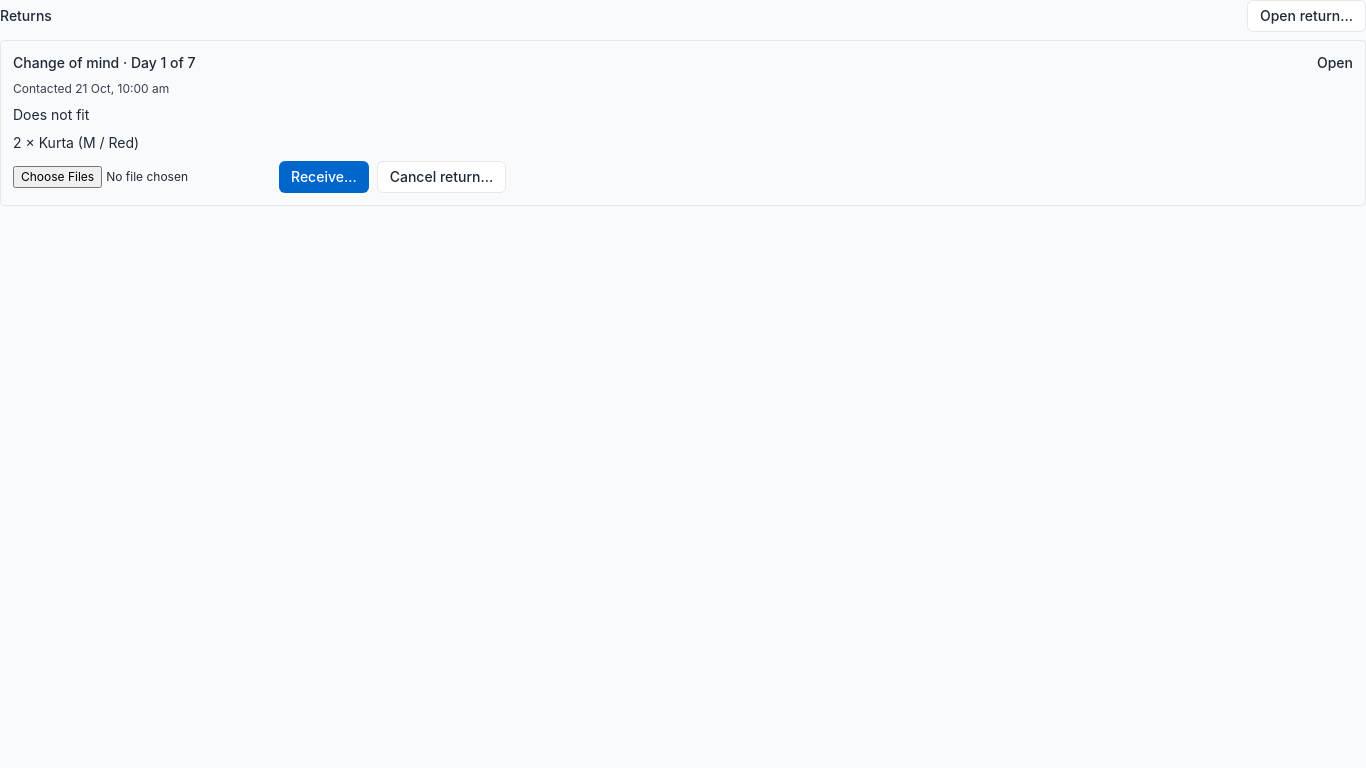
it: a server refusal (bad_state) keeps the dialog open with the message › Receive and Cancel stay open too
Click the button "Receive…": (324, 177) [279, 161, 369, 193]
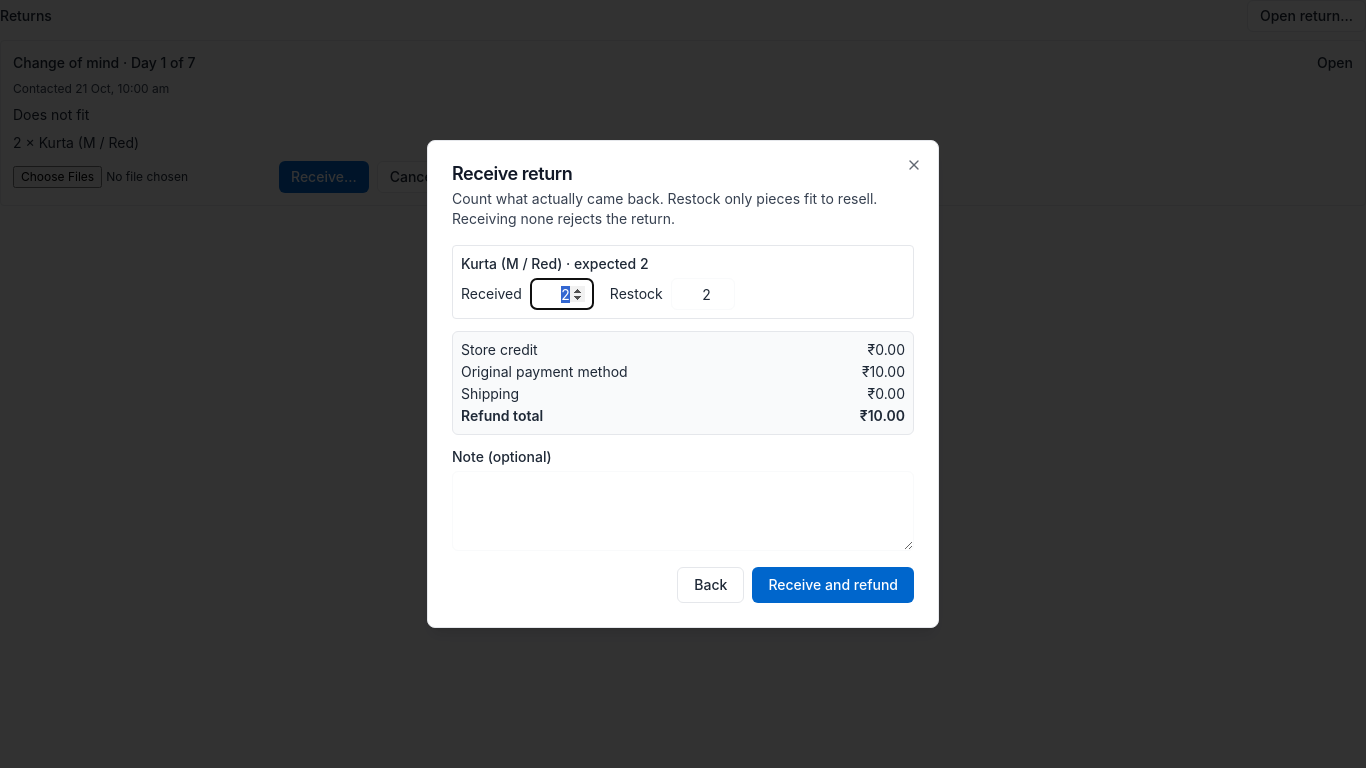
Check: the button "Receive and refund" is enabled
Click the button "Receive and refund": (833, 585) [752, 567, 914, 603]
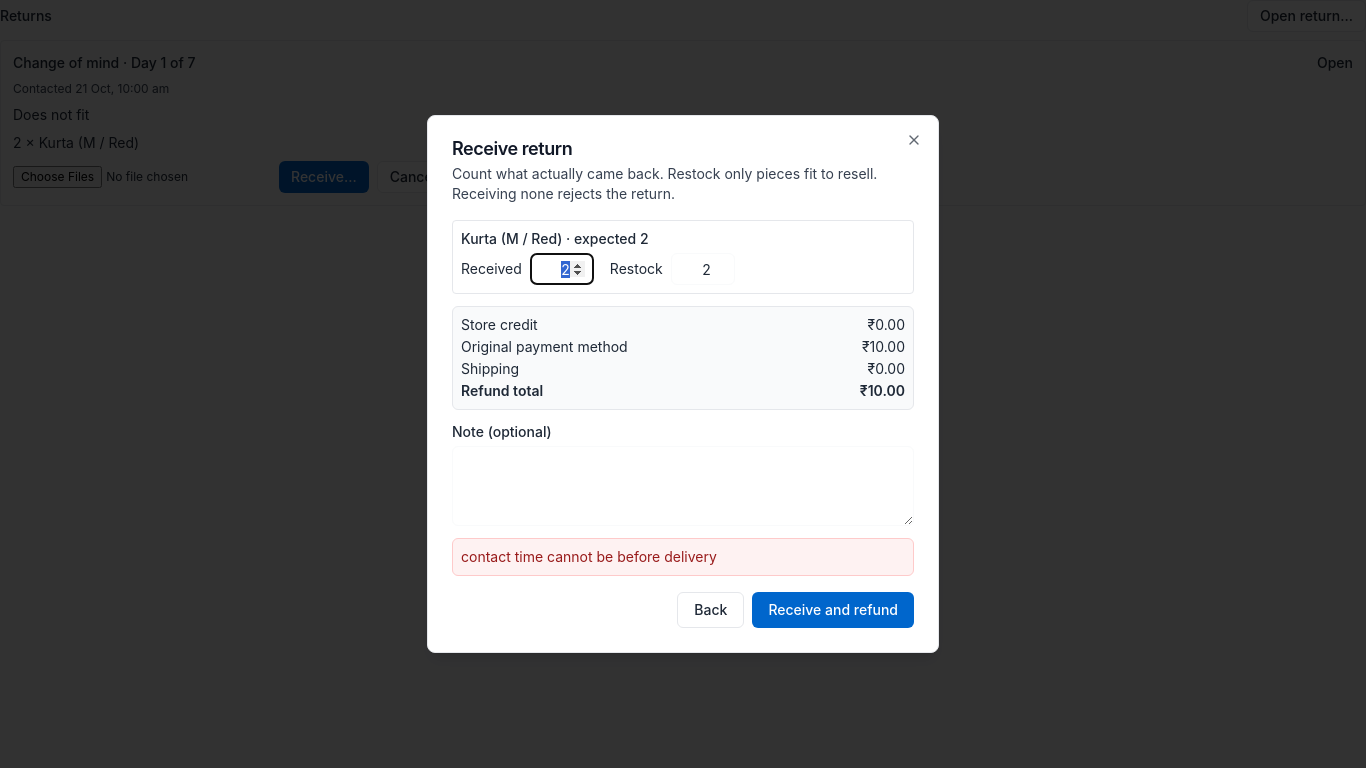
Check: the dialog shows "contact time cannot be before delivery", box [461, 548, 717, 565]
Click the button "Back": (711, 610) [677, 592, 744, 628]
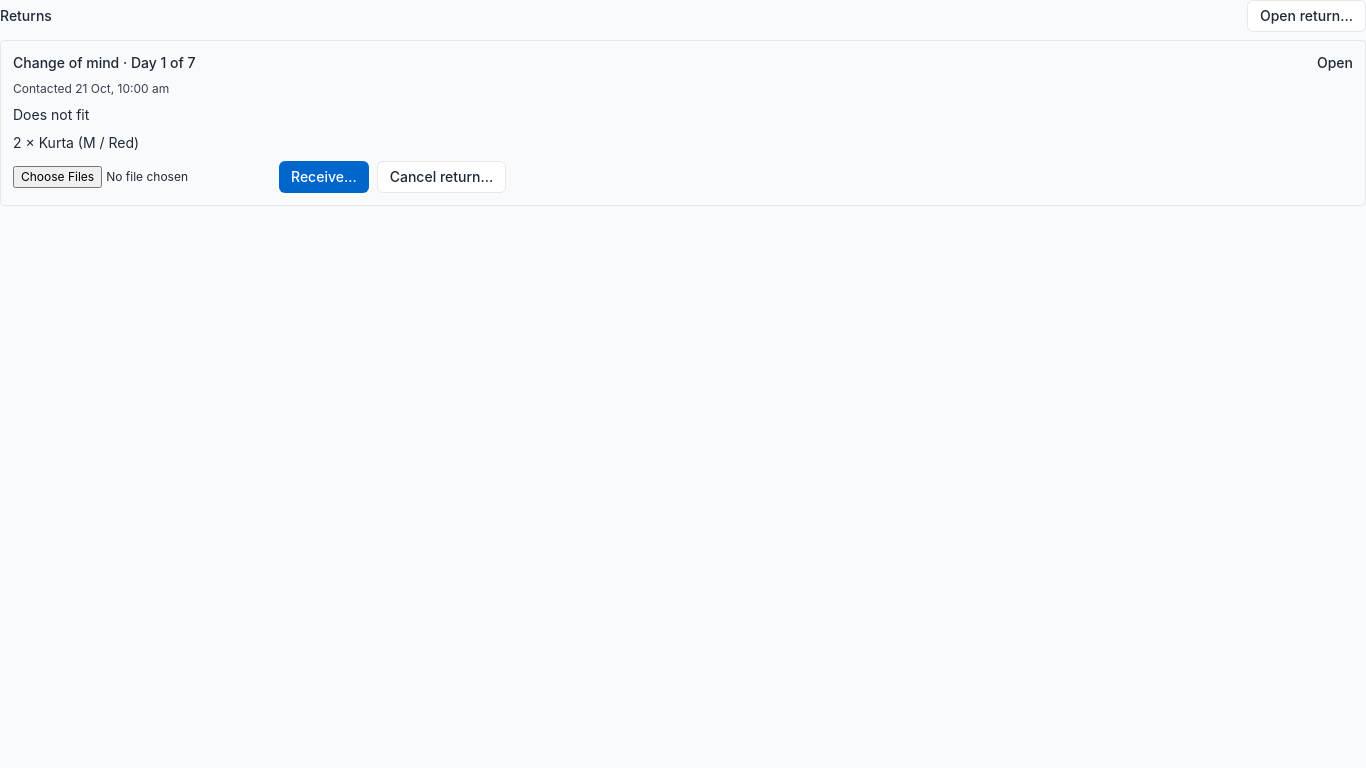
Check: the dialog is gone
Click the button "Cancel return…": (441, 177) [377, 161, 506, 193]
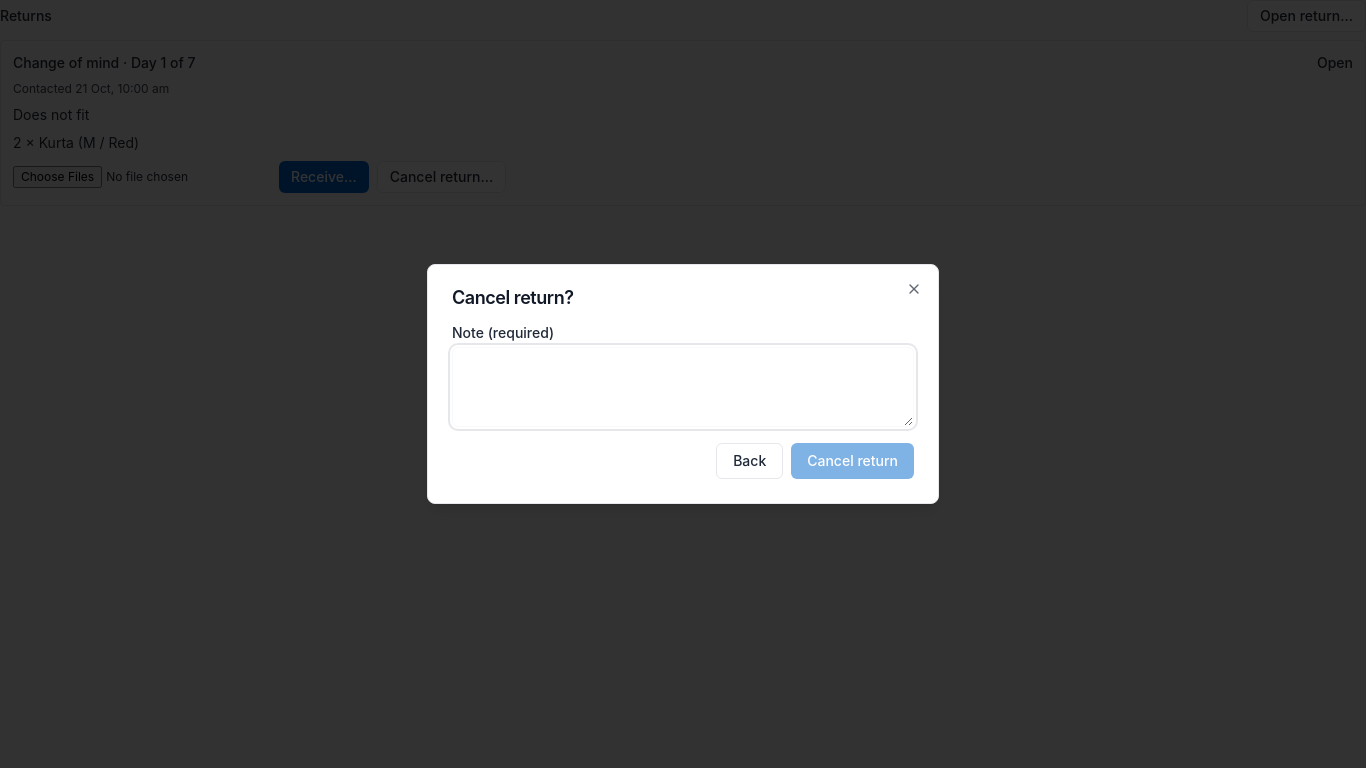
Check: the dialog does not show "contact time", box [427, 264, 939, 504]
In the text box named "Cancel note": (683, 387) [452, 347, 914, 427], type "why"
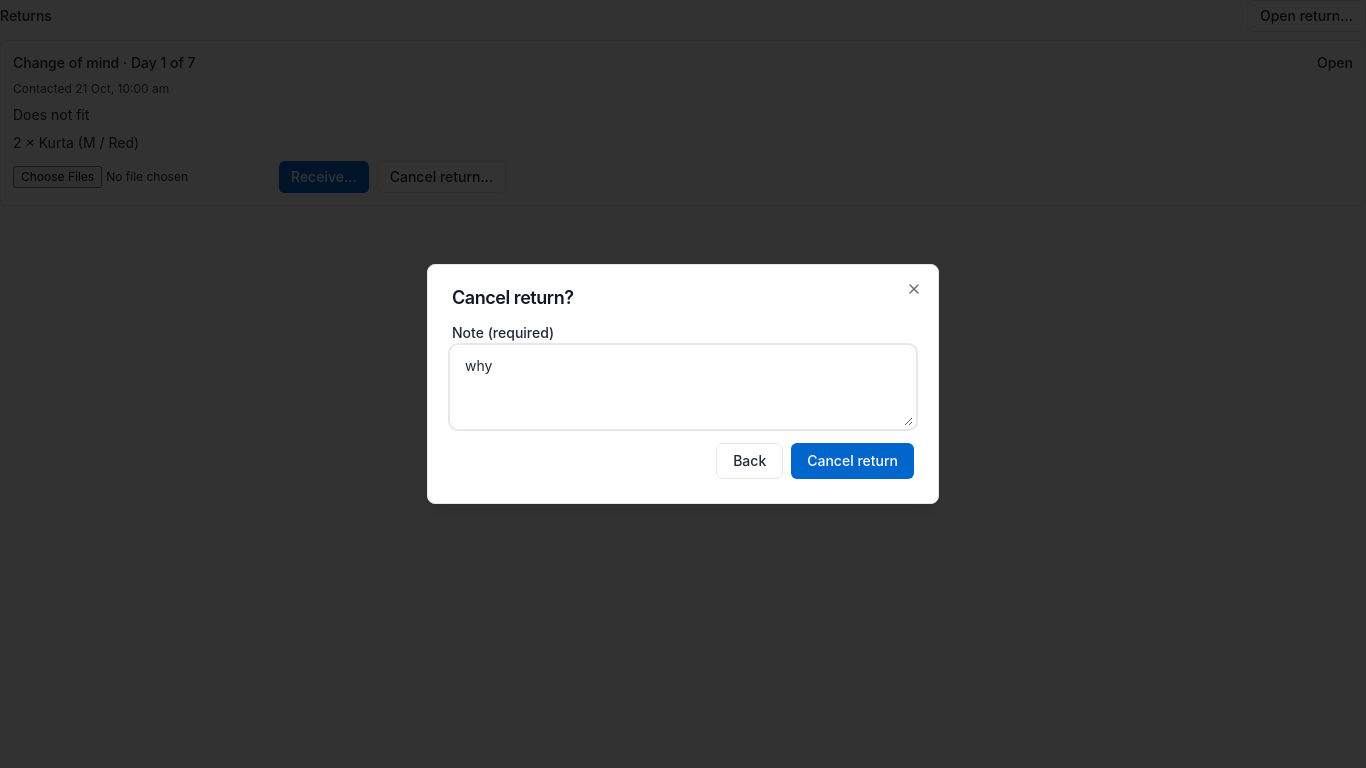
Click the button "Cancel return": (853, 461) [791, 443, 914, 479]
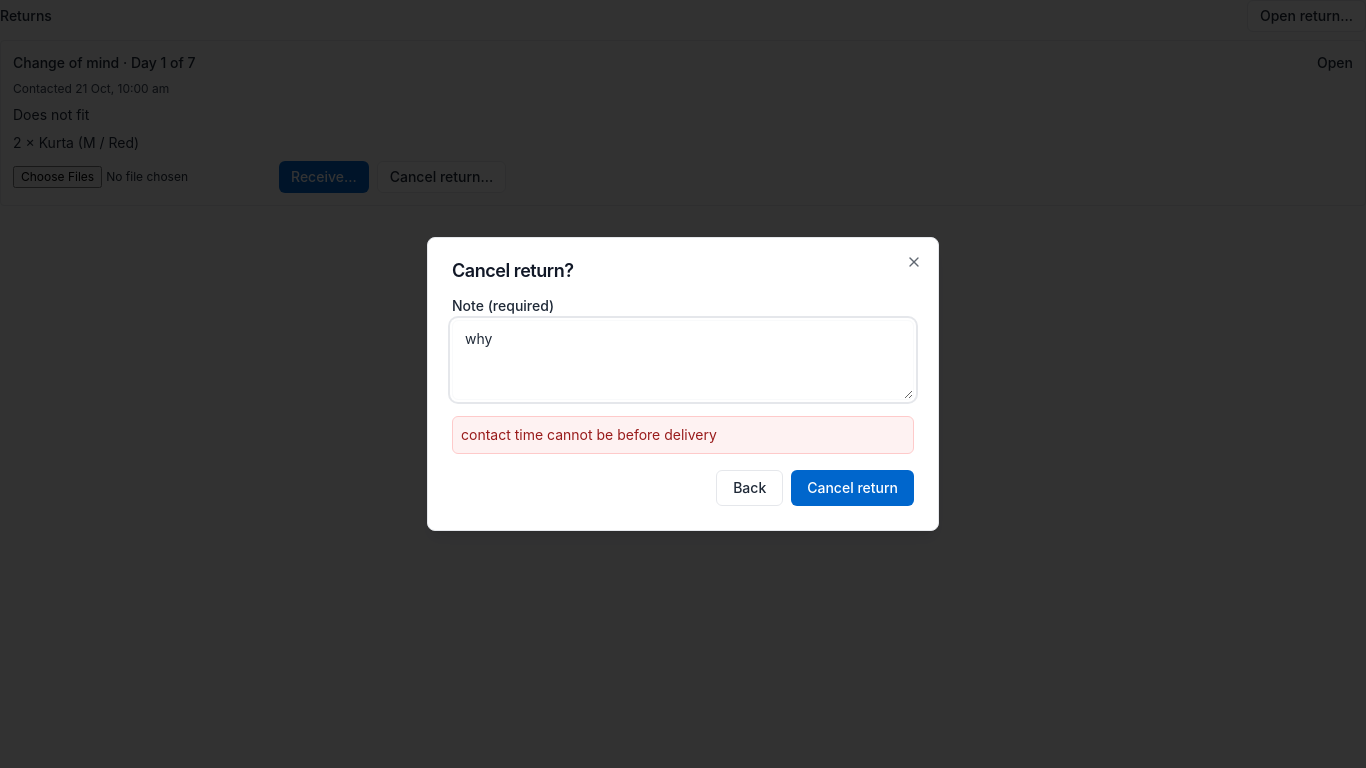
Check: the dialog shows "contact time cannot be before delivery", box [461, 426, 717, 443]
